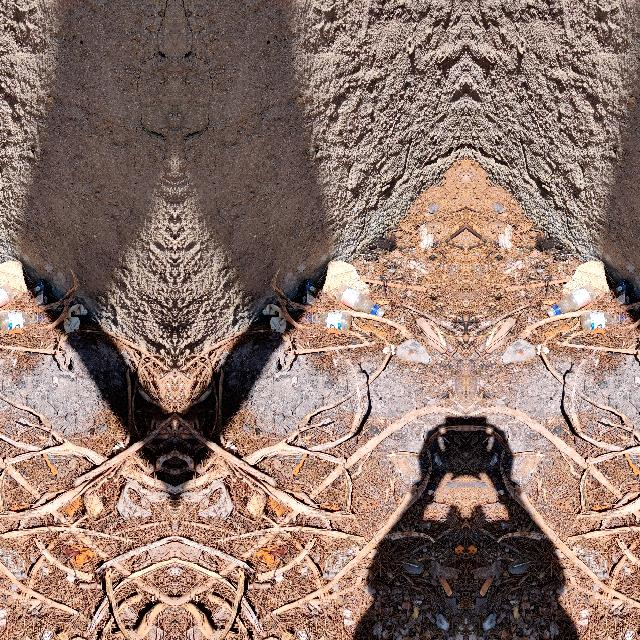Paper: (259, 300, 289, 334), (59, 300, 89, 334), (299, 275, 321, 305), (27, 275, 49, 305), (610, 275, 632, 305)
Plastic: (334, 282, 386, 318), (320, 258, 372, 294), (559, 258, 611, 294), (546, 282, 596, 318), (302, 311, 353, 333), (578, 311, 628, 333), (0, 258, 28, 294), (0, 311, 45, 333), (0, 282, 13, 318)
